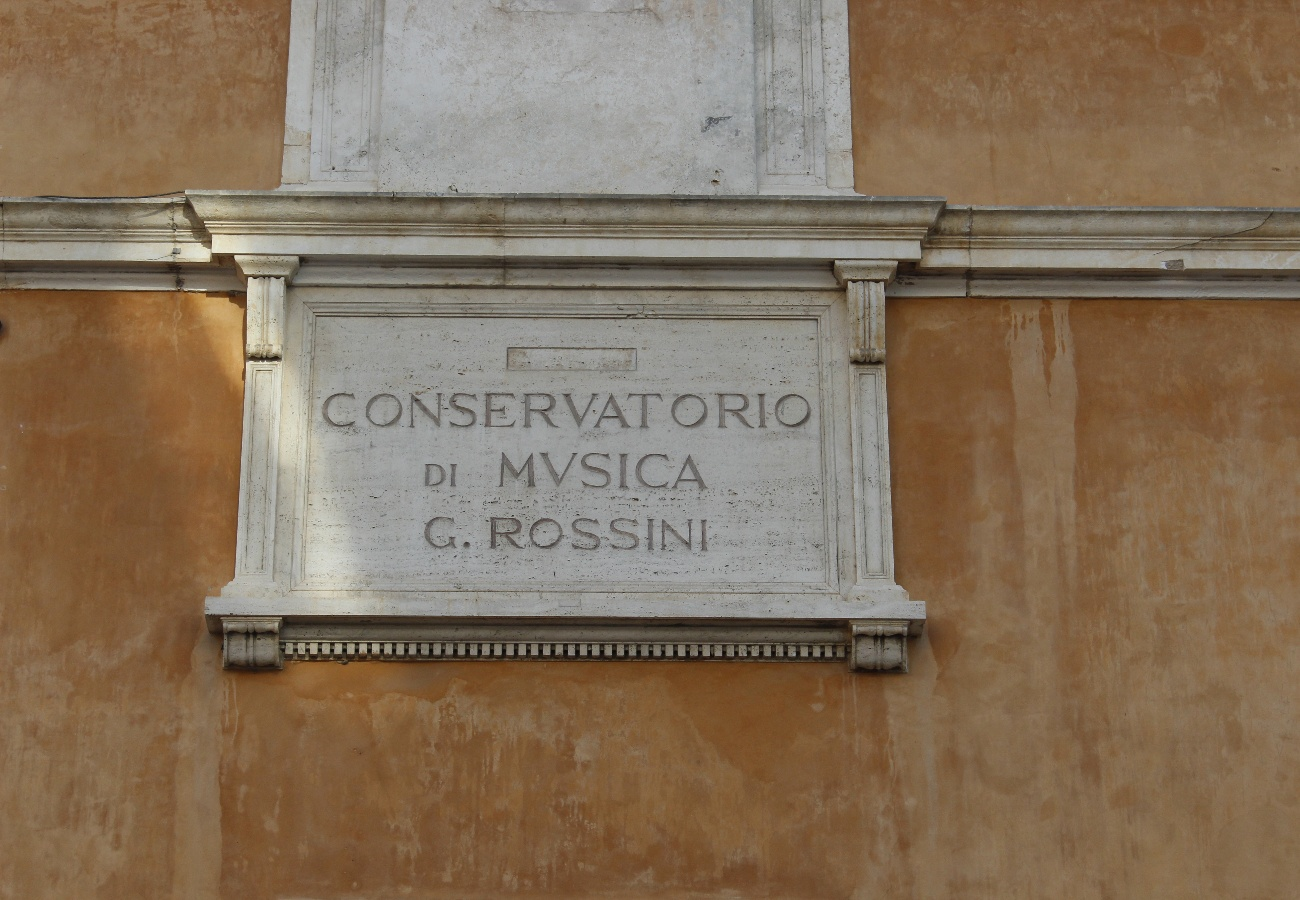Palazzo Olivieri: (179, 189, 952, 676)
